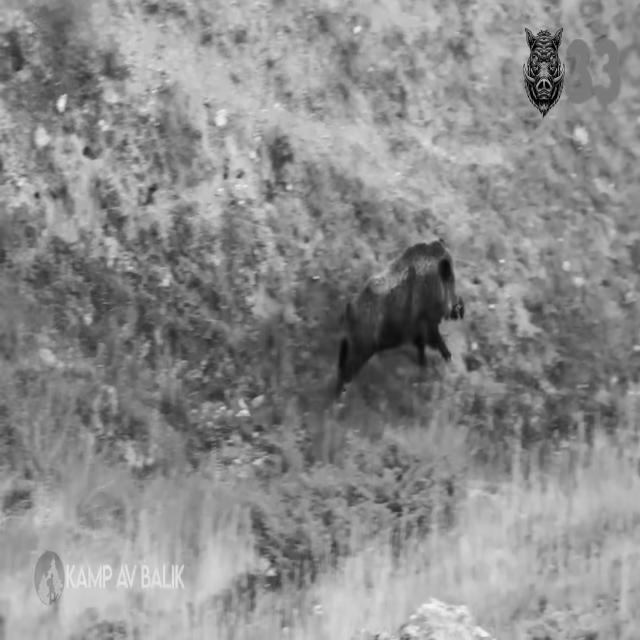boar: (337, 241, 463, 391)
